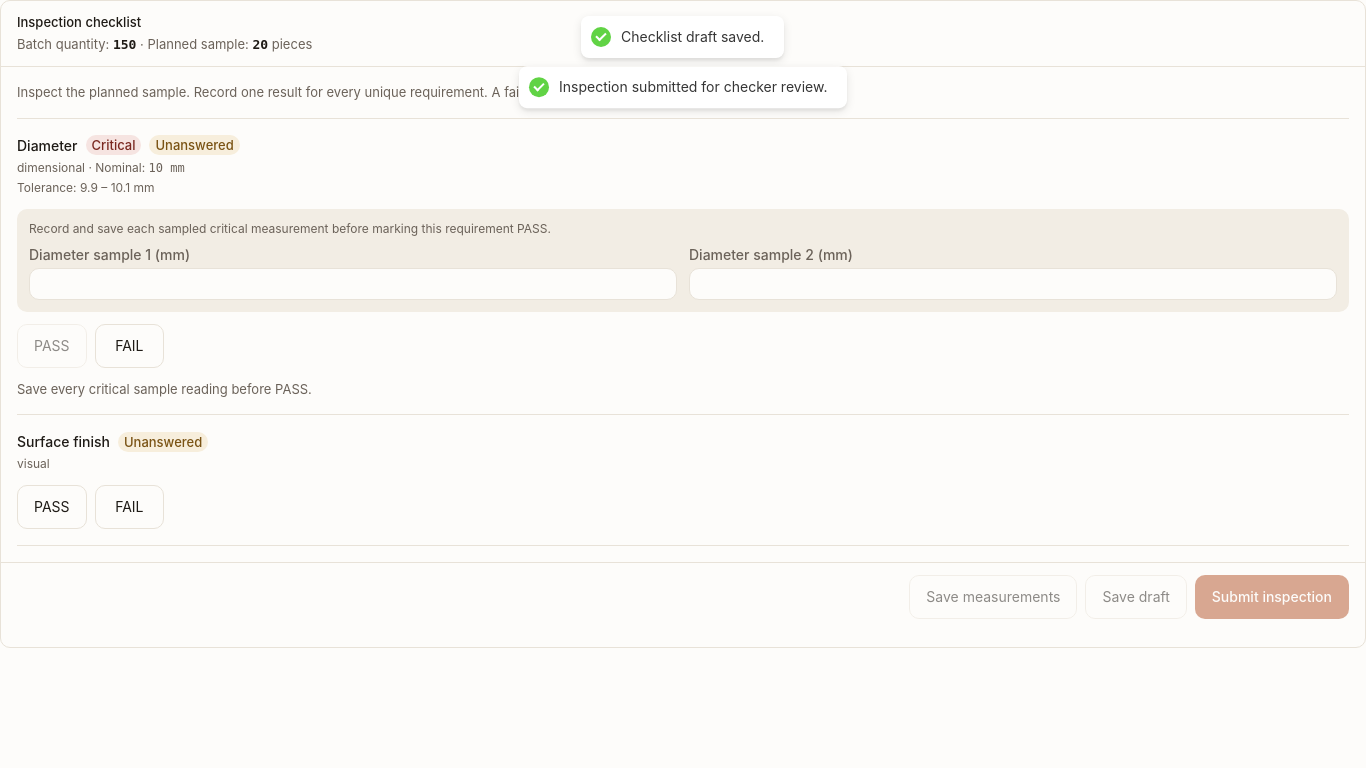
Test: InspectionChecklistPanel › requires saved measurements for every sample of a critical dimension before PASS
Expected: the number field labelled "Diameter sample 2 (mm)" is not empty, [690,269,1336,299]
Expected: the button with aria-label "PASS Diameter" is disabled, [17,324,86,368]
Type "10" into the number field labelled "Diameter sample 1 (mm)" at coordinates (353, 284), box [30,269,676,299]
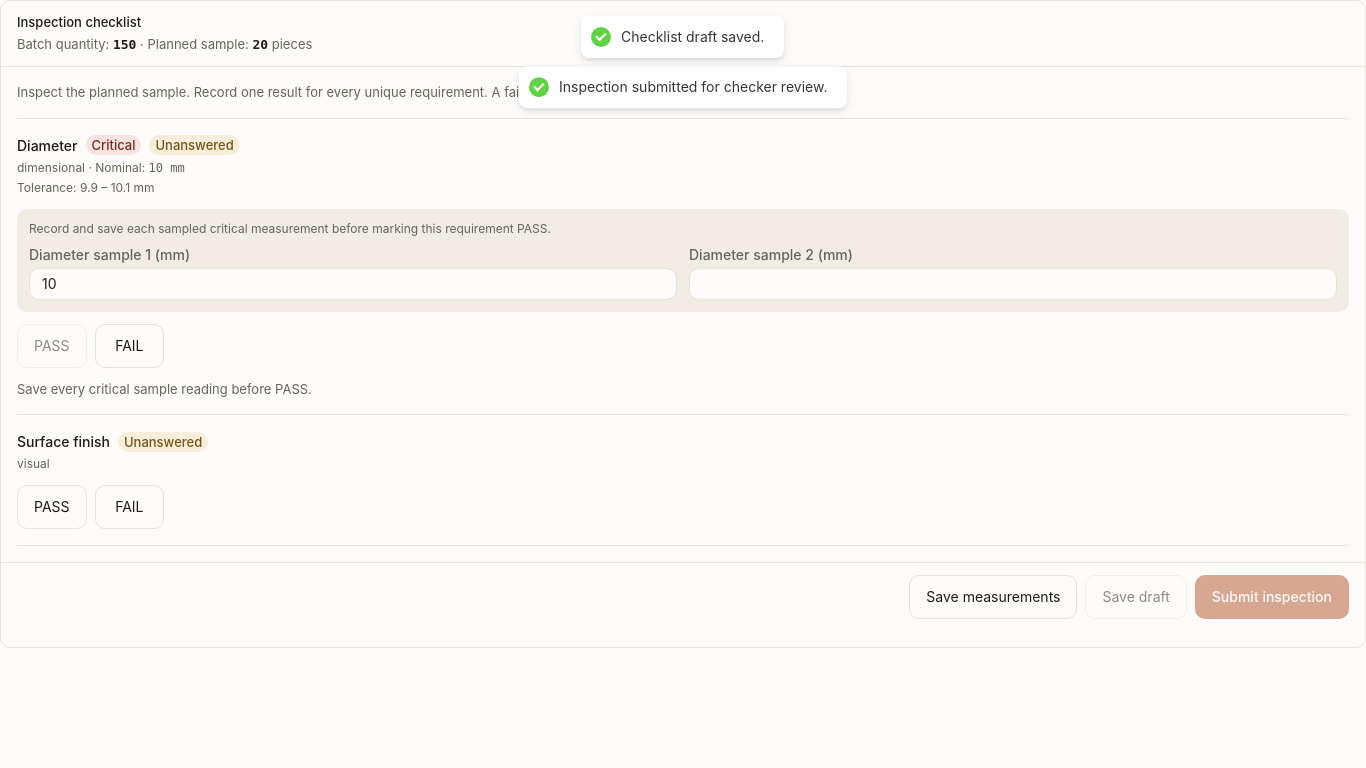
Type "10" into the number field labelled "Diameter sample 2 (mm)" at coordinates (1013, 284), box [690,269,1336,299]
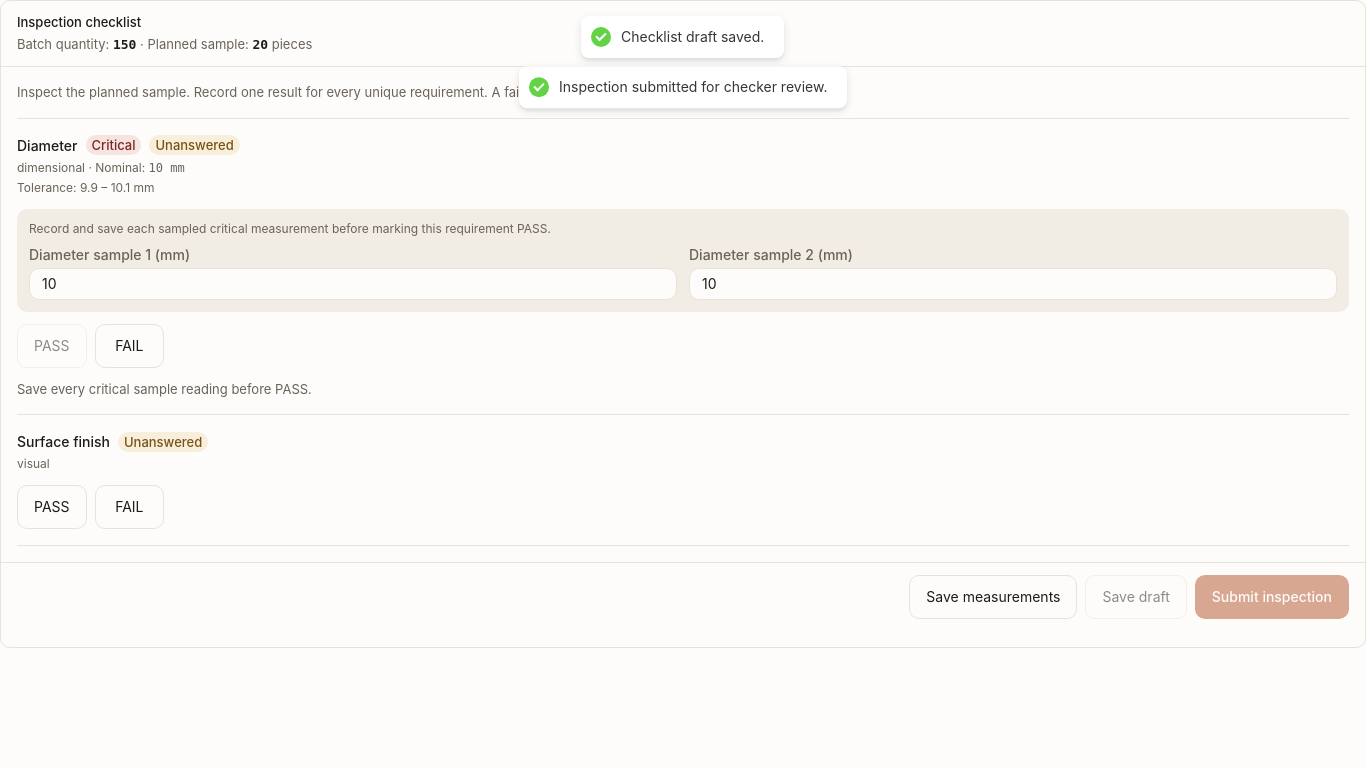
Click the button "Save measurements" at coordinates (993, 597), box [909,575,1078,619]
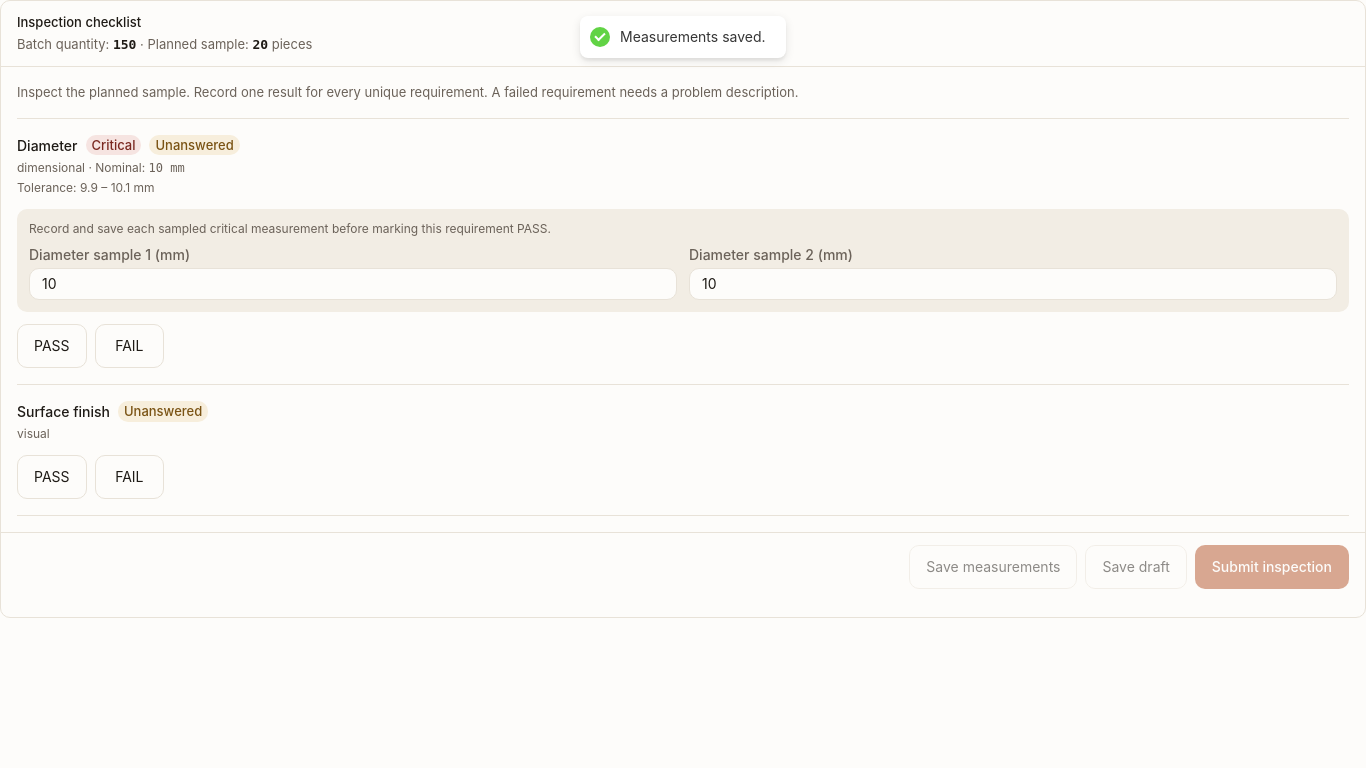
Now the button with aria-label "PASS Diameter" is enabled, box [17,324,86,368]
